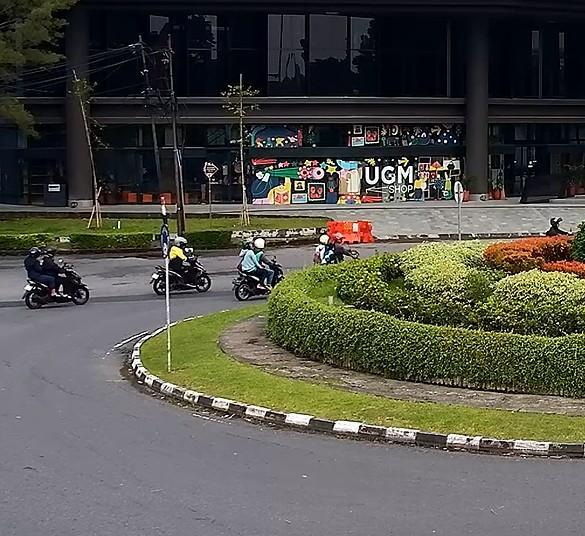Helmet: (254, 238, 265, 250), (242, 238, 253, 249), (333, 232, 344, 243), (174, 236, 186, 246), (29, 247, 41, 256), (319, 234, 329, 244), (44, 247, 55, 256), (184, 247, 193, 255)
Number Plate: (152, 273, 159, 280), (24, 285, 32, 291)
